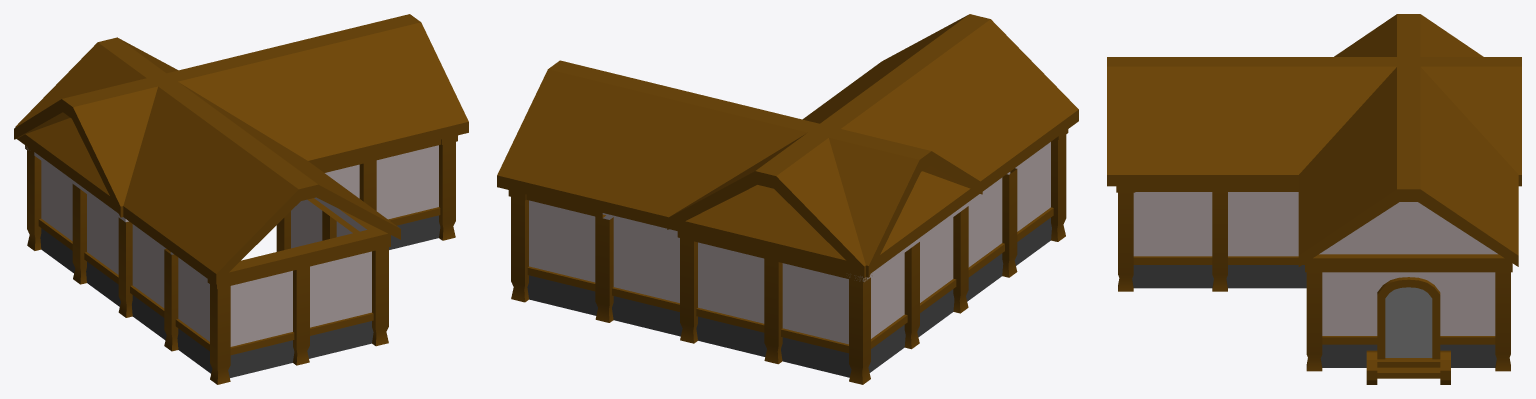
The model's file is Casa_Grande.fbx.
3 views of the same model, side by side, from view 1: azimuth 30°, elevation 25°; view 2: azimuth 150°, elevation 25°; view 3: azimuth 270°, elevation 25° (orthographic). The views are drawn at different scales.
Parts seen in each view (by area): view 1: SM_Cabana_1_Techo__3_, SM_Cabana_1_Techo, SM_Cabana_1_Techo_Medio, SM_Cabana_1_Techo_Medio__2_, SM_Cabana_1_Techo__1_, SM_Cabana_1_Techo__2_, SM_Cabana_1_Techo_Medio__3_, SM_Cabana_1_Techo_Medio__1_, Wall_6x4_001_10, Wall_6x4_001_8, Wall_6x4_001_11, SM_Cabana_1_BloqueH__1_ (+29 smaller); view 2: SM_Cabana_1_Techo, SM_Cabana_1_Techo__3_, SM_Cabana_1_Techo_Medio, SM_Cabana_1_Techo__1_, SM_Cabana_1_Techo__2_, SM_Cabana_1_Techo_Medio__2_, SM_Cabana_1_Techo_Medio__1_, SM_Cabana_1_Techo_Medio__3_, Wall_6x4_001_1, Wall_6x4_001_2, Wall_6x4_001_4, Wall_6x4_001_5 (+27 smaller); view 3: SM_Cabana_1_Techo__3_, SM_Cabana_1_Techo, SM_Cabana_1_Techo_Medio__2_, SM_Cabana_1_Techo_Medio, Wall_6x4, SM_Cabana_1_Techo__2_, SM_Cabana_1_Wall_Fill, Wall_6x4_001_13, SM_Cabana_1_Techo_Medio__3_, Wall_6x4_001_12, SM_Cabana_1_Techo_Medio__1_, SM_Cabana_1_Techo__1_ (+17 smaller).
Boxes of the visible parts, x1,y1,x2,y2 form: SM_Cabana_1_Techo__3_: (161,144,400,284); SM_Cabana_1_Techo: (315,14,468,155); SM_Cabana_1_Techo_Medio: (236,37,373,168); SM_Cabana_1_Techo_Medio__2_: (115,111,344,244); SM_Cabana_1_Techo__1_: (14,76,161,217); SM_Cabana_1_Techo__2_: (15,37,178,177); SM_Cabana_1_Techo_Medio__3_: (70,77,285,210); SM_Cabana_1_Techo_Medio__1_: (166,56,286,147); Wall_6x4_001_10: (230,270,292,346); Wall_6x4_001_8: (376,145,438,219); Wall_6x4_001_11: (310,251,371,327); SM_Cabana_1_BloqueH__1_: (207,228,390,288); SM_Cabana_1_Techo: (497,60,660,211); SM_Cabana_1_Techo__3_: (824,14,1078,163); SM_Cabana_1_Techo_Medio: (598,85,745,232); SM_Cabana_1_Techo__1_: (767,126,982,277); SM_Cabana_1_Techo__2_: (667,128,922,278); SM_Cabana_1_Techo_Medio__2_: (802,57,1020,199); SM_Cabana_1_Techo_Medio__1_: (683,106,829,252); SM_Cabana_1_Techo_Medio__3_: (809,92,971,234); Wall_6x4_001_1: (606,214,679,302); Wall_6x4_001_2: (529,200,606,282); Wall_6x4_001_4: (698,242,764,323); Wall_6x4_001_5: (782,263,848,344); SM_Cabana_1_Techo__3_: (1107,57,1220,186); SM_Cabana_1_Techo: (1298,141,1518,266); SM_Cabana_1_Techo_Medio__2_: (1220,57,1314,186); SM_Cabana_1_Techo_Medio: (1298,101,1518,207); Wall_6x4: (1322,272,1495,335); SM_Cabana_1_Techo__2_: (1408,57,1521,186); SM_Cabana_1_Wall_Fill: (1319,202,1497,254); Wall_6x4_001_13: (1133,192,1212,256); SM_Cabana_1_Techo_Medio__3_: (1314,57,1407,156); Wall_6x4_001_12: (1228,192,1298,256); SM_Cabana_1_Techo_Medio__1_: (1315,61,1501,156); SM_Cabana_1_Techo__1_: (1334,14,1483,61).
Bounding box in the file's own units: 1353 × 691 × 1320.
